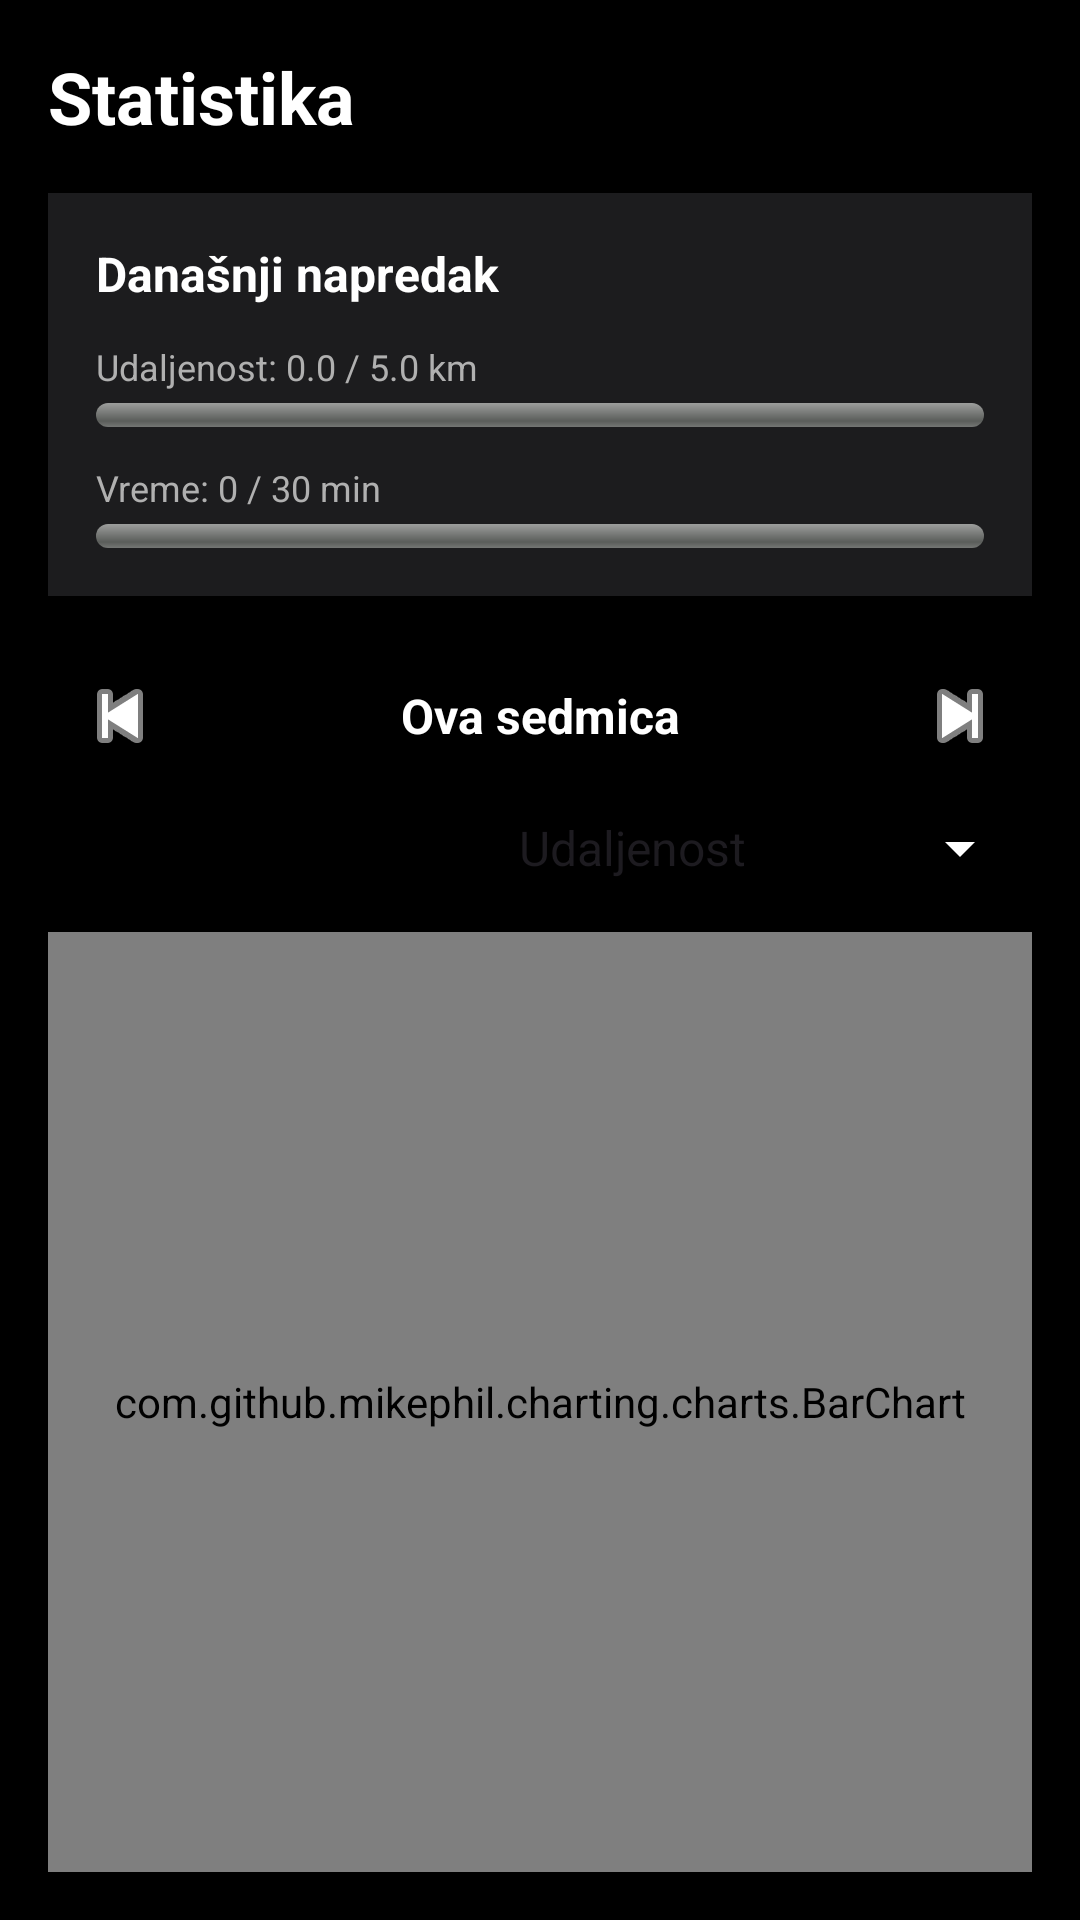

Point at icon controls on the screen. Image size 1080w x 1920h, points as (x=x, y=y).
next: (x=960, y=716)
previous: (x=120, y=716)
